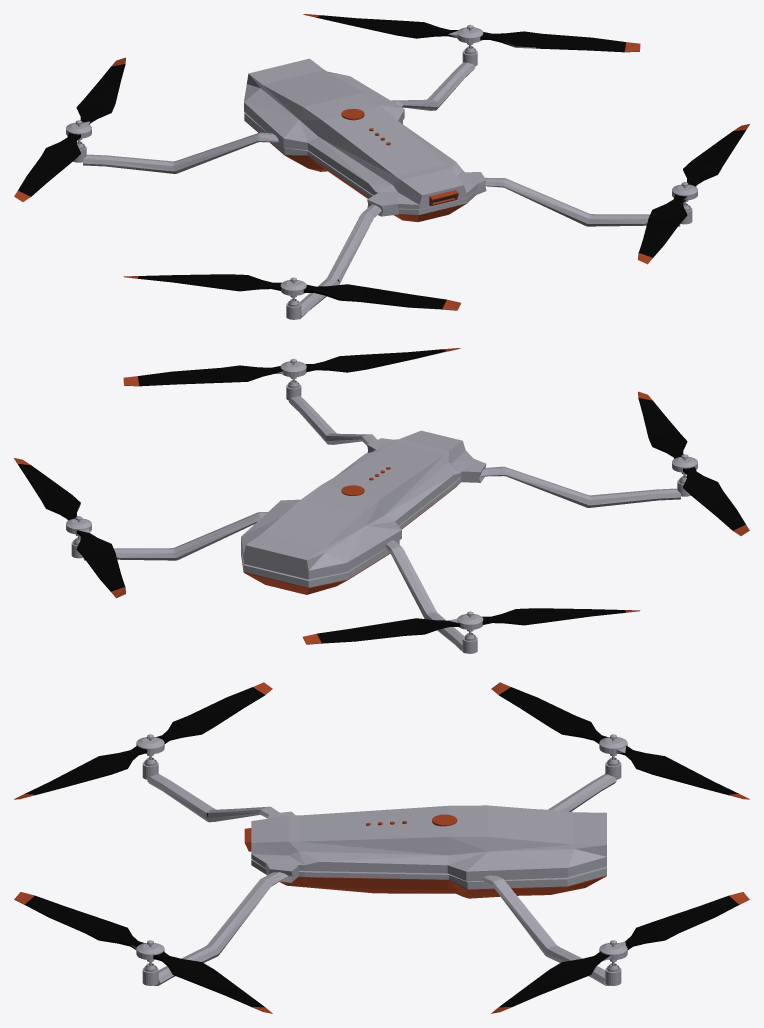
The model's file is TargetDrone.fbx.glb.
3 views of the same model, one above another, from view 1: azimuth 30°, elevation 25°; view 2: azimuth 150°, elevation 25°; view 3: azimuth 270°, elevation 25° (orthographic). The views are drawn at different scales.
Parts seen in each view (by area): view 1: Silver.001.1; view 2: Silver.001.1; view 3: Silver.001.1.
Part boxes in pixels (<box>): Silver.001.1: <box>14,14,749,319</box>; Silver.001.1: <box>14,348,749,653</box>; Silver.001.1: <box>14,682,749,1013</box>.
Size of the model in its own units: 8.33 by 0.8148 by 7.87.
